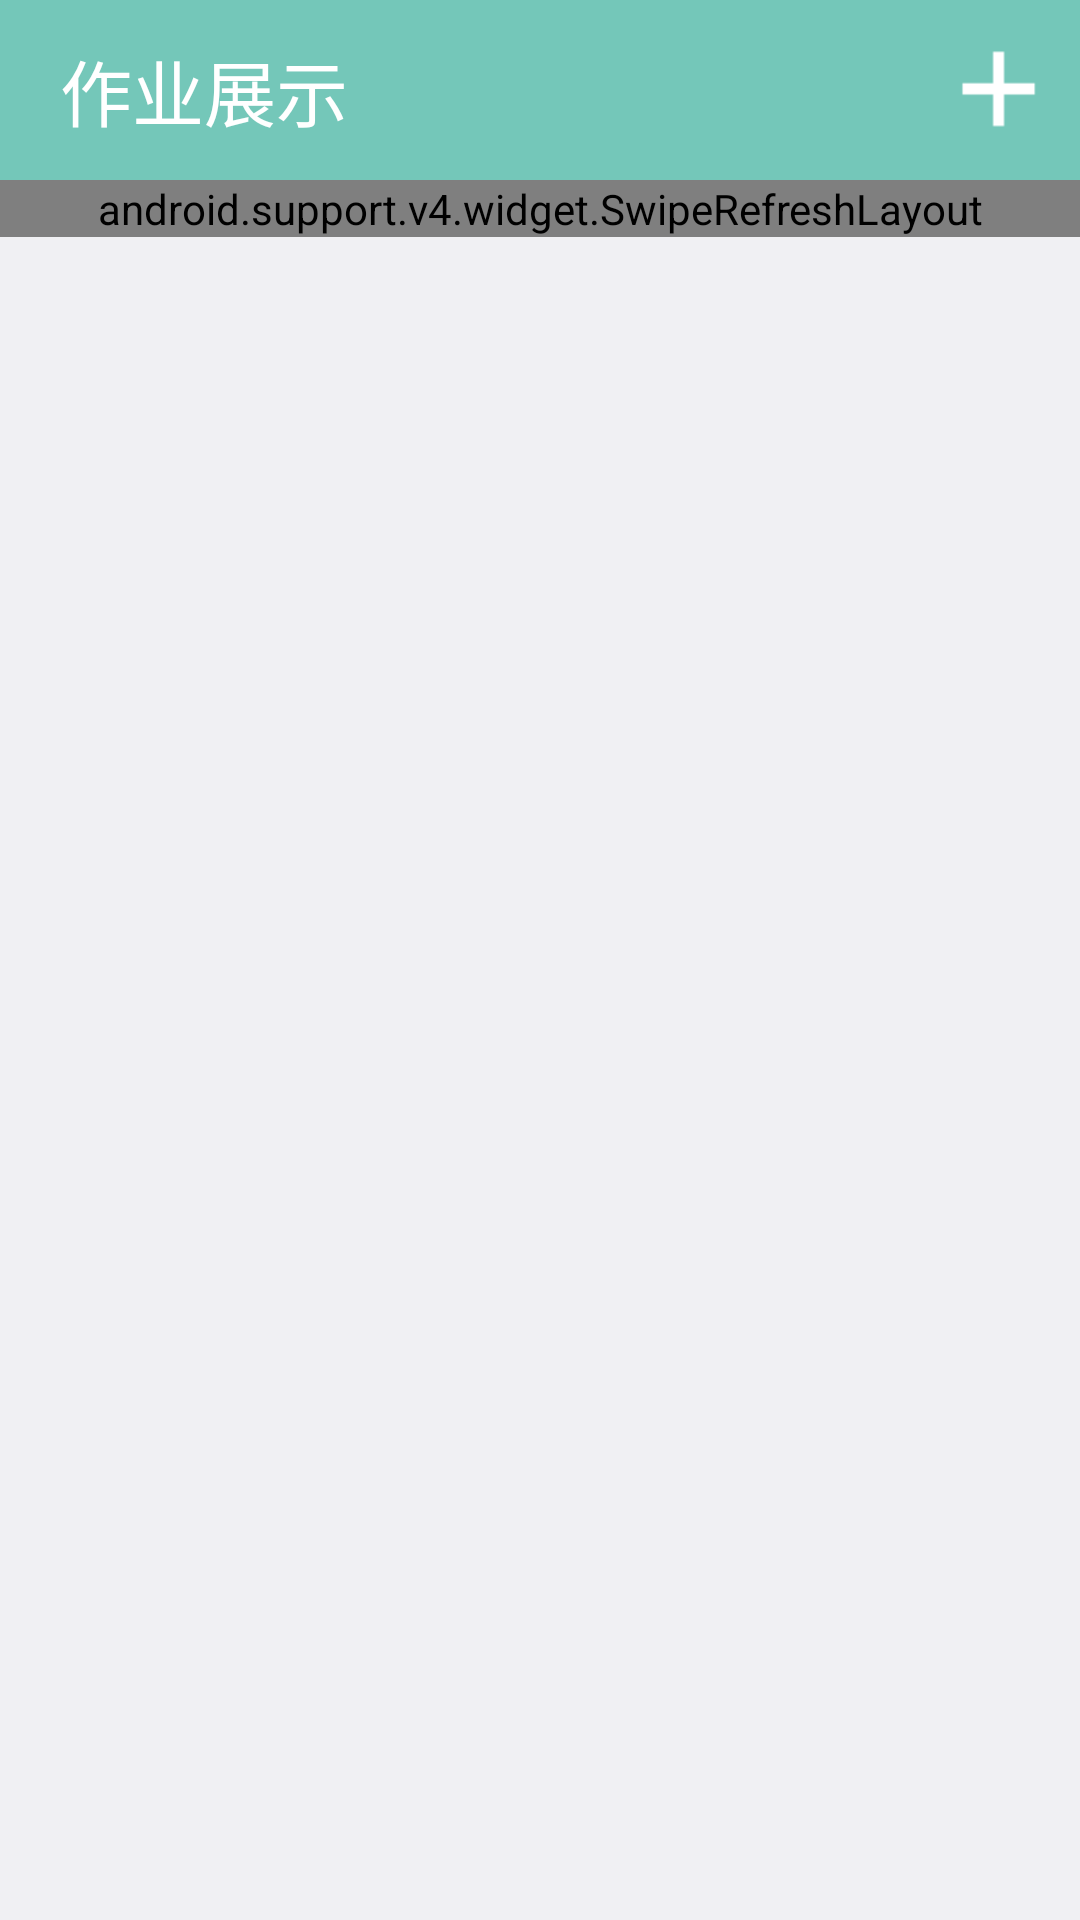

Named icons in this screenshot (1080 × 1920) and their centers, [x,y]:
add: [998,89]
